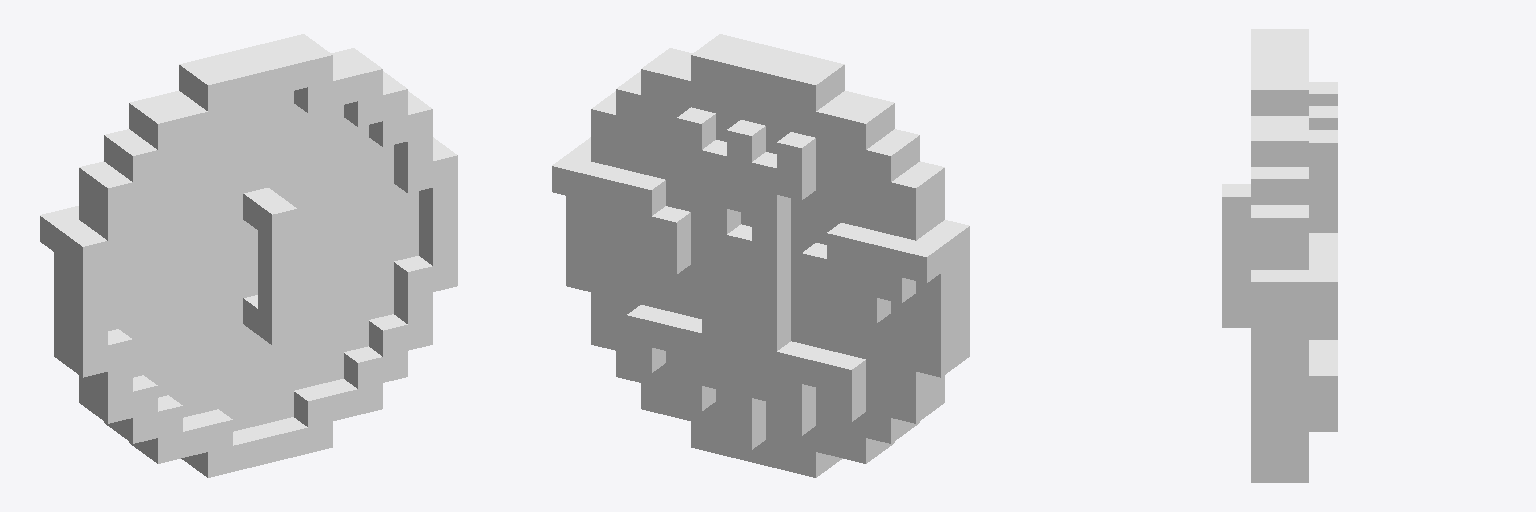
File: shieldBirdKing.vox.obj
The picture shows the model from 3 angles: view 1: azimuth 30°, elevation 25°; view 2: azimuth 150°, elevation 25°; view 3: azimuth 270°, elevation 25°; orthographic projection.
Parts seen in each view (by area): view 1: object 1; view 2: object 1; view 3: object 1.
Part boxes in pixels (bbox=[...]): object 1: bbox=[40, 34, 457, 477]; object 1: bbox=[552, 34, 969, 477]; object 1: bbox=[1222, 29, 1337, 482].
Size of the model in its own units: 1.5 by 1.5 by 0.4.